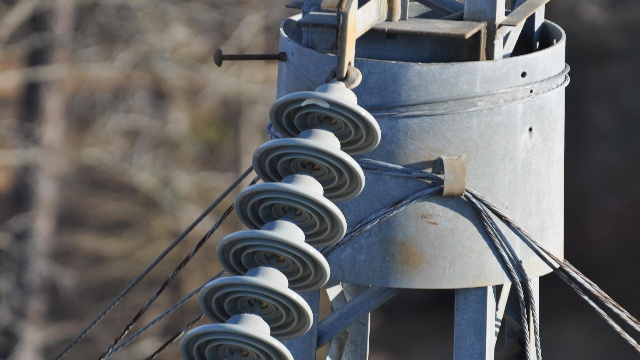broken_local: (300, 98, 329, 109)
insulator_unspecified: (178, 90, 383, 359)
